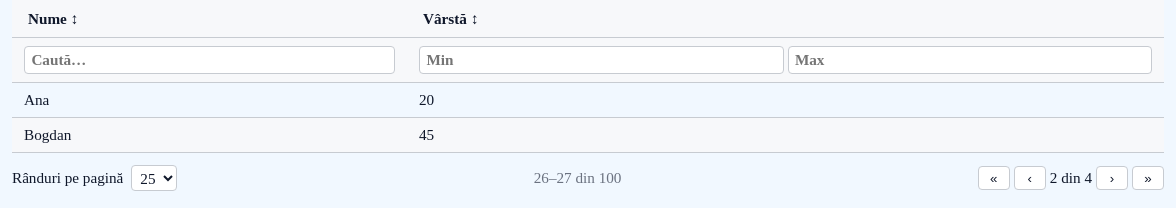
it: DataTable server mode › resets to the first page when a filter or the page size changes
Type "Ana" into the search field named "Filtrează Nume" at x=210, y=60, box top-left (24, 46), bottom-right (395, 74)
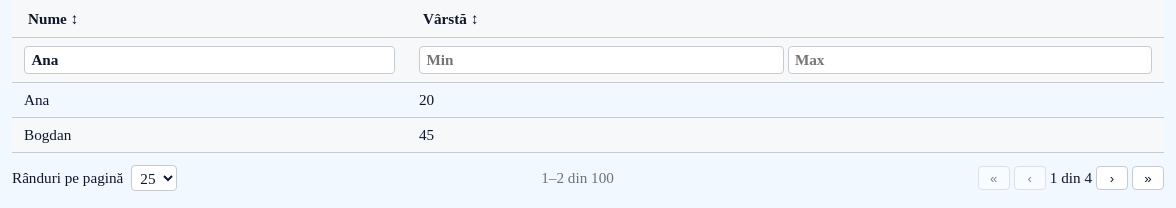
Check: the cell "Bogdan" is shown, box top-left (12, 118), bottom-right (407, 153)
Check: the text "1–2 din 100" is shown, box top-left (541, 169), bottom-right (614, 187)
Click the button named "Pagina următoare" at x=1112, y=178, box top-left (1096, 166), bottom-right (1128, 190)
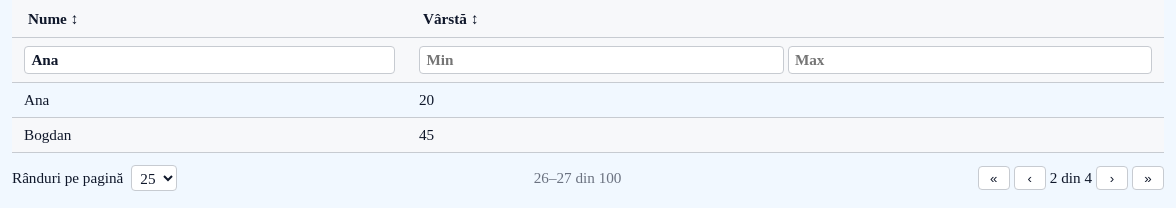
Check: the text "2 din 4" is shown, box top-left (1050, 169), bottom-right (1092, 187)
Select "50" in the dropdown labelled "Rânduri pe pagină" at x=154, y=178, box top-left (131, 165), bottom-right (177, 191)
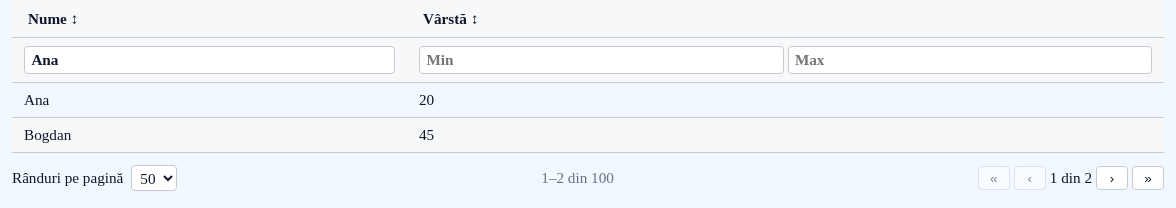
Check: the text "1 din 2" is shown, box top-left (1050, 169), bottom-right (1092, 187)
Check: the text "1–2 din 100" is shown, box top-left (541, 169), bottom-right (614, 187)
